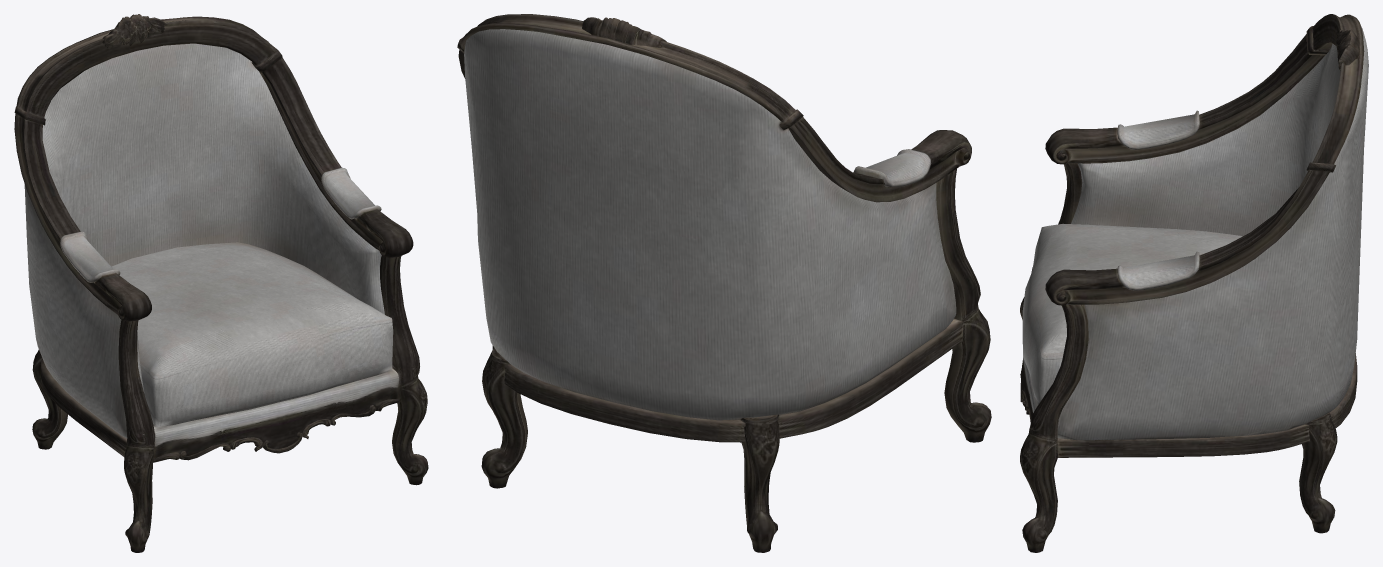
File: armchair.glb
3 views of the same model, side by side, from view 1: azimuth 30°, elevation 25°; view 2: azimuth 150°, elevation 25°; view 3: azimuth 270°, elevation 25° (orthographic). The views are drawn at different scales.
Parts seen in each view (by area): view 1: hotel/armchair; view 2: hotel/armchair; view 3: hotel/armchair.
Boxes of the visible parts, x1,y1,x2,y2 form: hotel/armchair: (14,14,428,552); hotel/armchair: (457,14,991,552); hotel/armchair: (1020,14,1368,552).
Bounding box in the file's own units: 0.8482 × 1.07 × 0.7655.
Materials: 1 (1 with a texture image).
